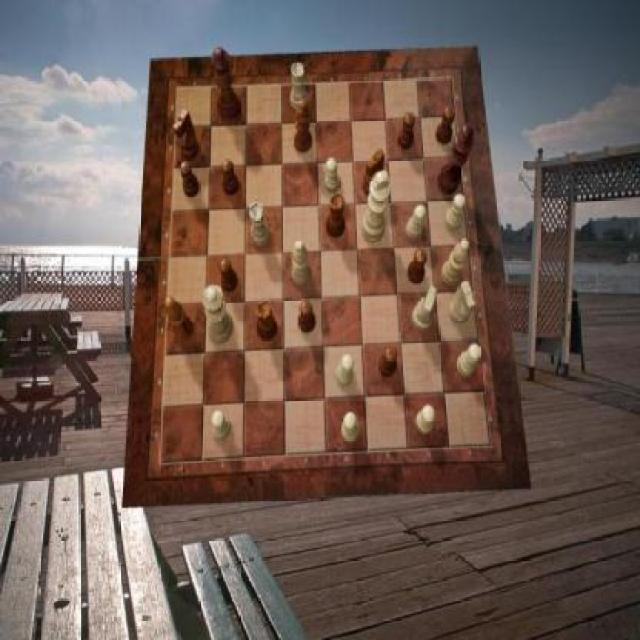bishop: (164, 295, 193, 341), (294, 99, 313, 153)
black-bishop: (437, 123, 474, 195)
black-king: (174, 109, 200, 160), (363, 150, 385, 198)
black-knight: (437, 106, 457, 145), (180, 162, 200, 198), (408, 249, 428, 284), (220, 258, 240, 292), (222, 159, 240, 196), (399, 111, 416, 149), (299, 300, 316, 334), (379, 346, 396, 379)
black-pawn: (211, 48, 241, 122)
black-queen: (255, 302, 278, 342), (326, 194, 346, 238)
black-rook: (442, 240, 469, 288), (292, 240, 312, 286)
white-bishop: (362, 171, 392, 243)
white-king: (449, 281, 476, 324), (412, 286, 437, 332)
white-knight: (457, 343, 481, 377), (444, 194, 466, 231), (406, 205, 427, 239), (417, 404, 437, 436), (212, 411, 232, 442), (335, 354, 353, 388), (342, 412, 359, 443), (325, 159, 340, 193)
white-pawn: (201, 286, 234, 346)
white-queen: (249, 202, 270, 246), (291, 63, 308, 112)
